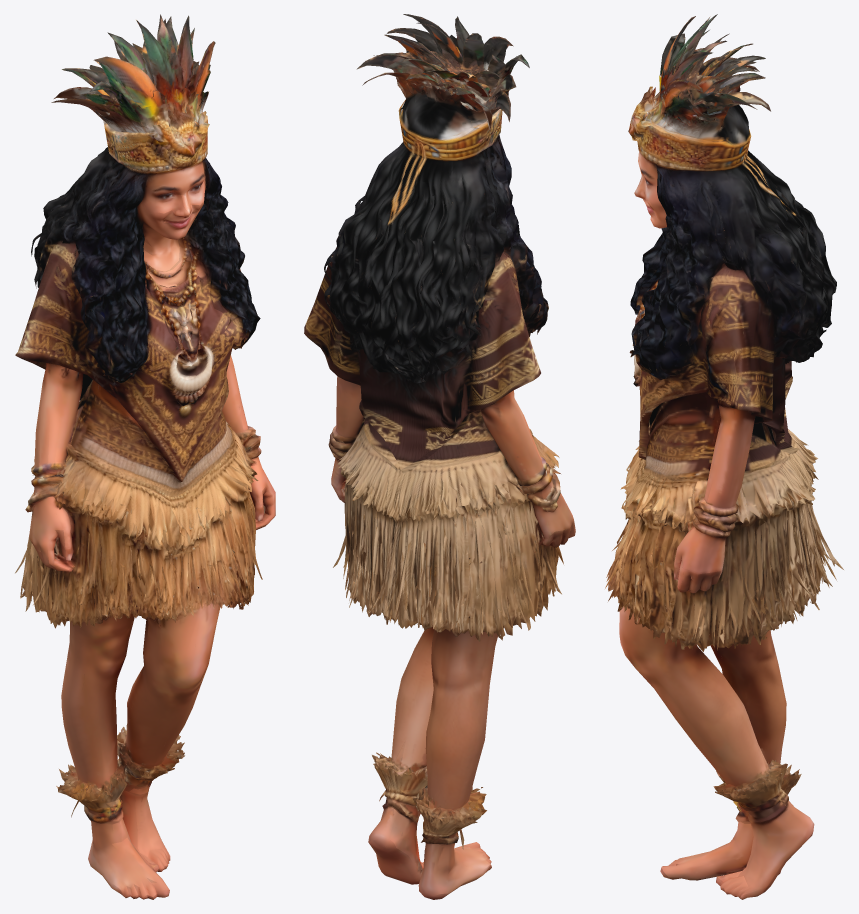
File: Mulher-visual-indigena.glb
The picture shows the model from 3 angles, left to right: view 1: azimuth 30°, elevation 25°; view 2: azimuth 150°, elevation 25°; view 3: azimuth 270°, elevation 25°; orthographic projection.
Visible parts, largest first — view 1: Mesh_0_modddif_material_0_0 (×2); view 2: Mesh_0_modddif_material_0_0 (×2); view 3: Mesh_0_modddif_material_0_0 (×2).
Boxes of the visible parts, x1,y1,x2,y2 form: Mesh_0_modddif_material_0_0 (×2): (15,14,275,899); Mesh_0_modddif_material_0_0 (×2): (304,14,575,899); Mesh_0_modddif_material_0_0 (×2): (605,14,843,899).
Bounding box in the file's own units: 0.2917 × 1 × 0.2526.
Materials: 1 (1 with a texture image).
